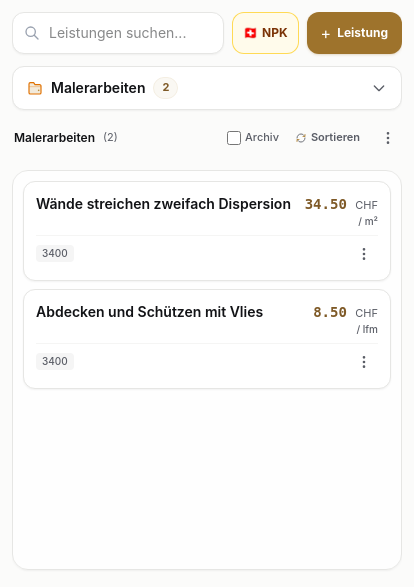
Test case: KatalogView Mobile Optimization › toggles sort mode and displays up/down buttons on mobile cards
Expected: the 1st text "Malerarbeiten" is shown, [51, 78, 146, 98]
// Click sort mode toggle
Step 1. Click the button "Sortieren" → (328, 138), box [287, 128, 368, 147]
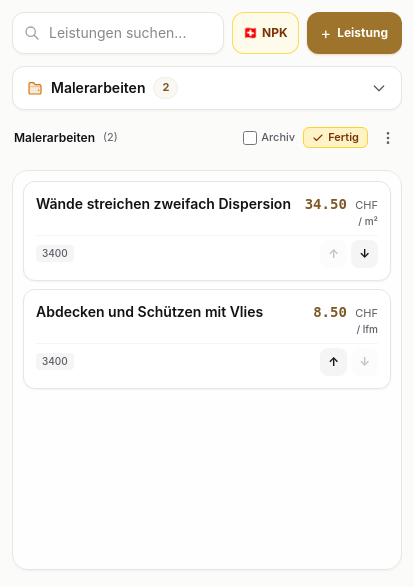
Expected: the button "Fertig" is shown, [303, 127, 368, 148]
Expected: the button "↑" below "m²" is shown, [320, 240, 347, 268]
Expected: the button "↓" below "m²" is shown, [351, 240, 378, 268]
